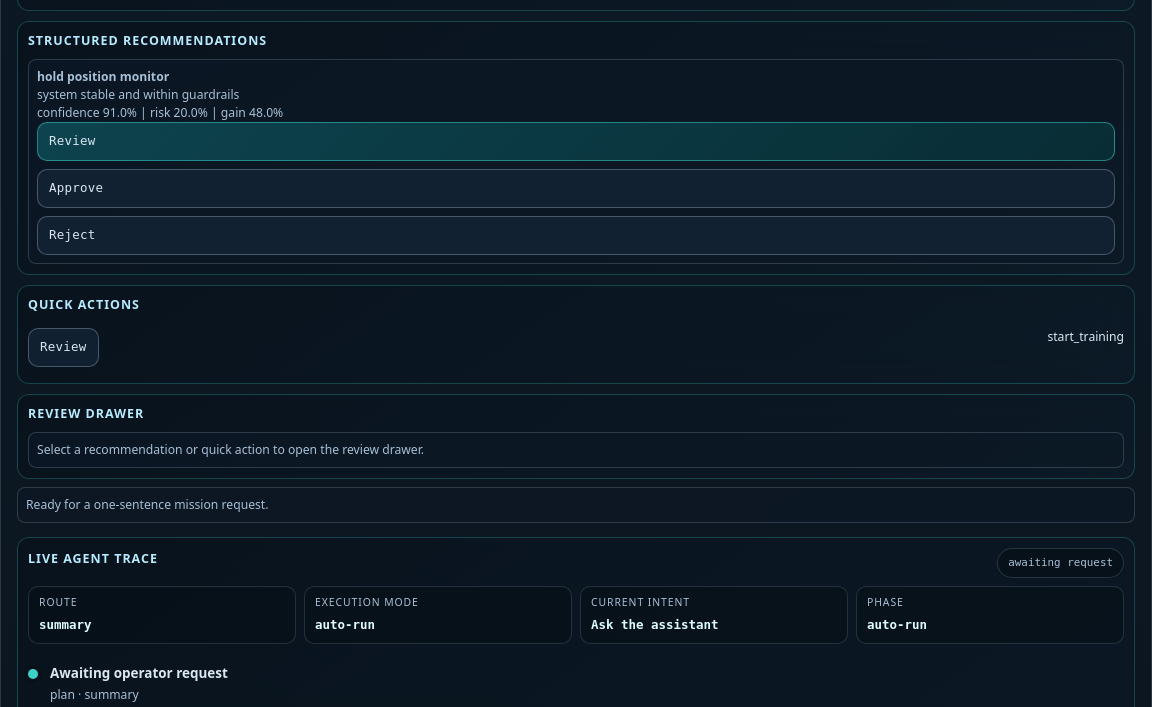
HUD AI interaction console › supports undo for reversible reviewed actions
(page scrolled)
Step 1. Click the button "Review" in the row of "start_training" → [63, 348], box 28,328 -> 98,367
(page scrolled)
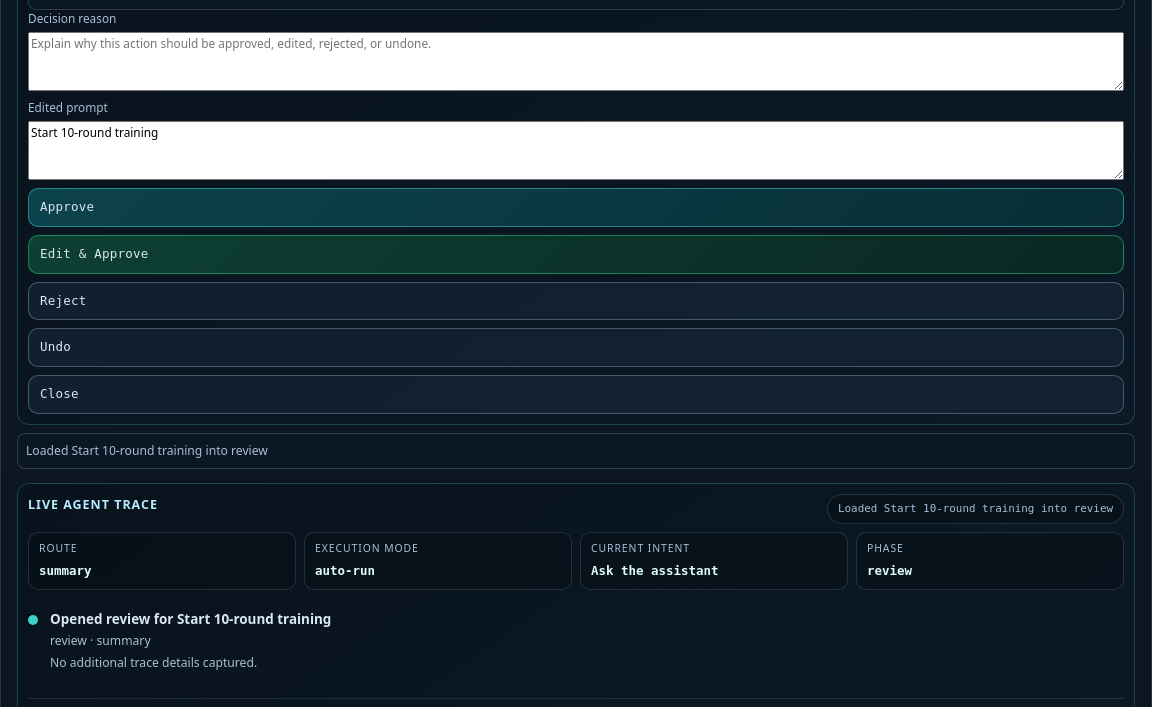
Step 2. Click the button "Undo" → [56, 347], box 28,328 -> 1124,367
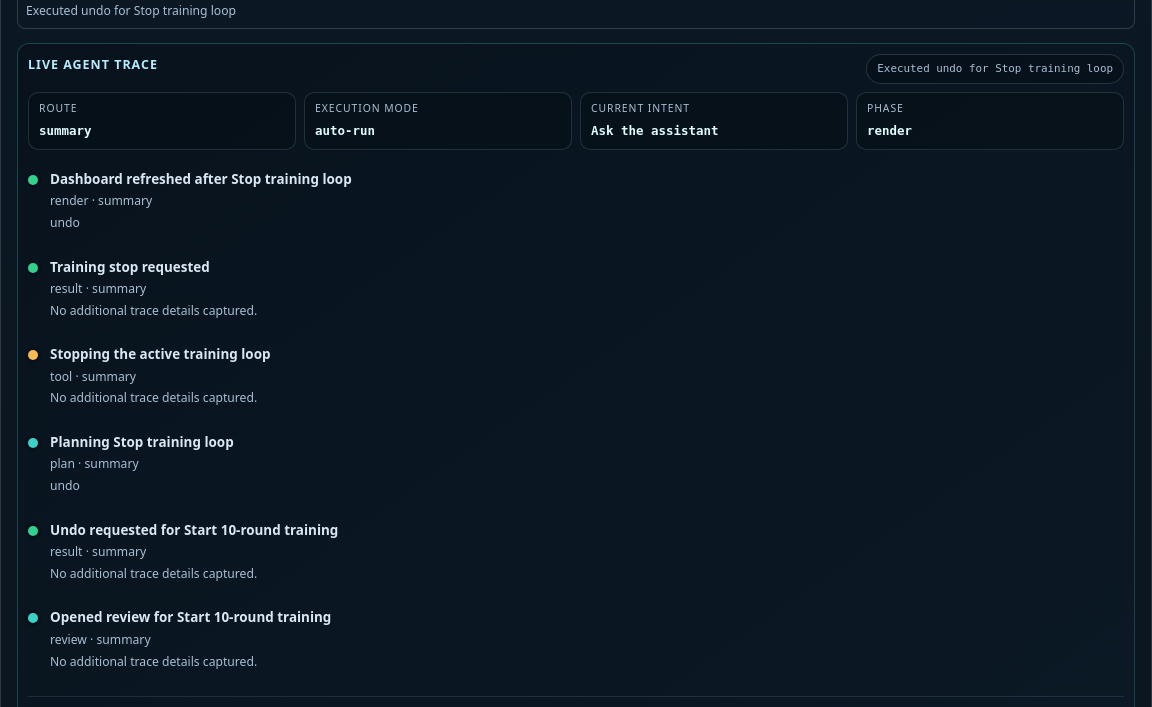
Check: the 1st text "undo" is shown, box 50,214 -> 80,231
